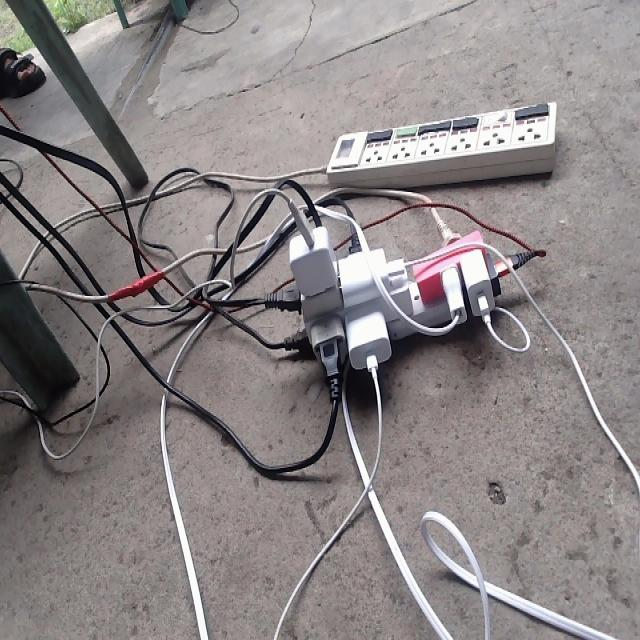-: (268, 207, 530, 380)
